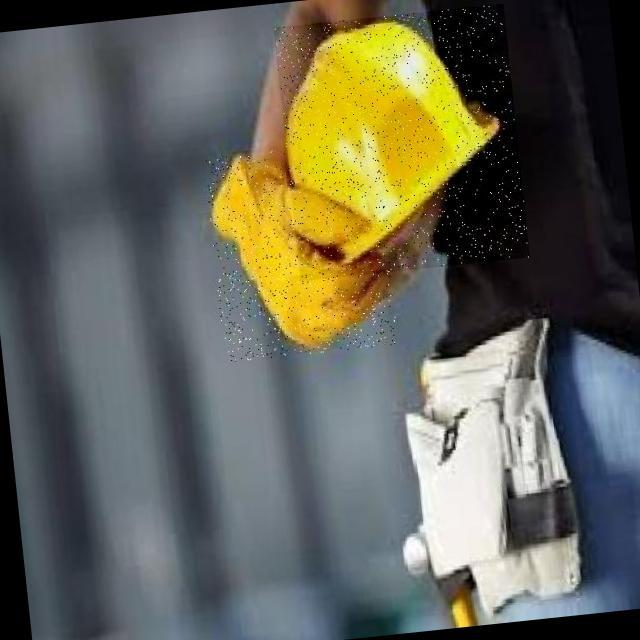Gloves: (204, 144, 407, 359)
Helmet: (272, 17, 512, 253)
